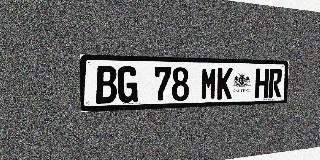7: (153, 67, 171, 102)
8: (172, 67, 189, 101)
B: (95, 66, 117, 104)
G: (118, 66, 138, 103)
H: (255, 68, 269, 98)
K: (217, 68, 233, 99)
M: (201, 67, 217, 100)
R: (268, 69, 282, 98)
